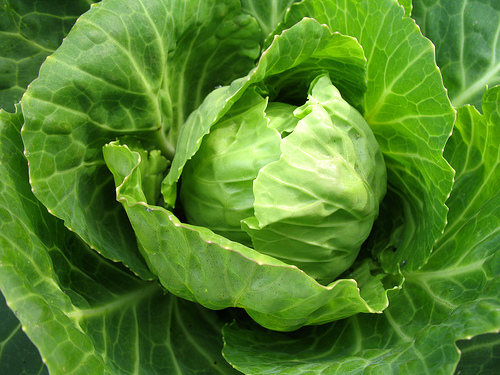cabbage: (2, 2, 499, 374)
